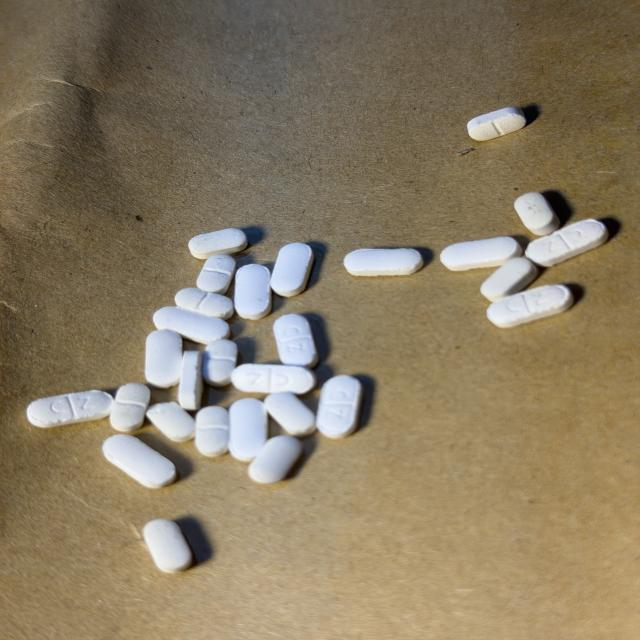pill: (103, 434, 176, 488), (526, 220, 608, 266), (487, 285, 573, 327), (27, 390, 113, 427), (316, 376, 362, 438), (154, 307, 230, 344), (440, 237, 522, 271), (143, 519, 192, 573), (248, 436, 302, 483), (232, 364, 316, 394), (480, 258, 537, 301), (229, 399, 267, 461), (274, 315, 318, 367), (271, 243, 313, 297), (264, 392, 315, 436), (145, 330, 182, 388), (344, 249, 423, 276), (468, 107, 526, 141), (110, 383, 150, 432), (235, 265, 271, 319), (147, 402, 195, 442), (514, 193, 559, 235), (175, 288, 233, 319), (189, 229, 247, 259), (195, 406, 229, 456), (203, 340, 237, 386), (178, 351, 203, 410), (197, 255, 235, 293)
